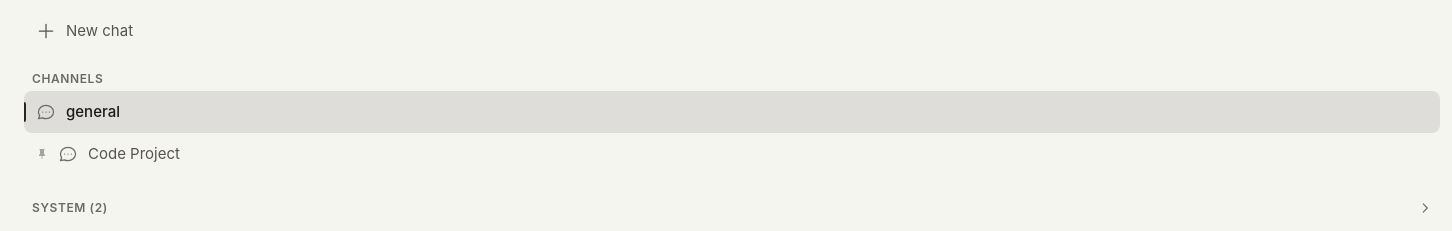
Scenario: context menu › opens on right-click of user channel
Right-click the button "general" at (93,111), box [24,90,1440,133]
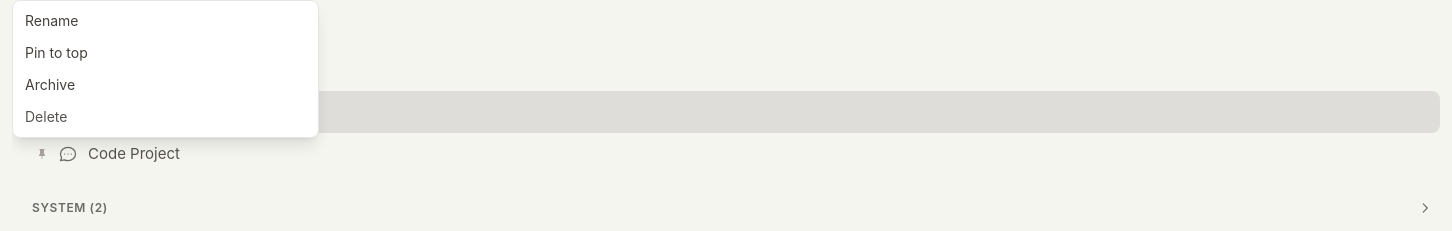
Result: the button "Rename" is shown at [13,5,318,37]
Result: the button "Pin to top" is shown at [13,37,318,69]
Result: the button "Archive" is shown at [13,69,318,101]
